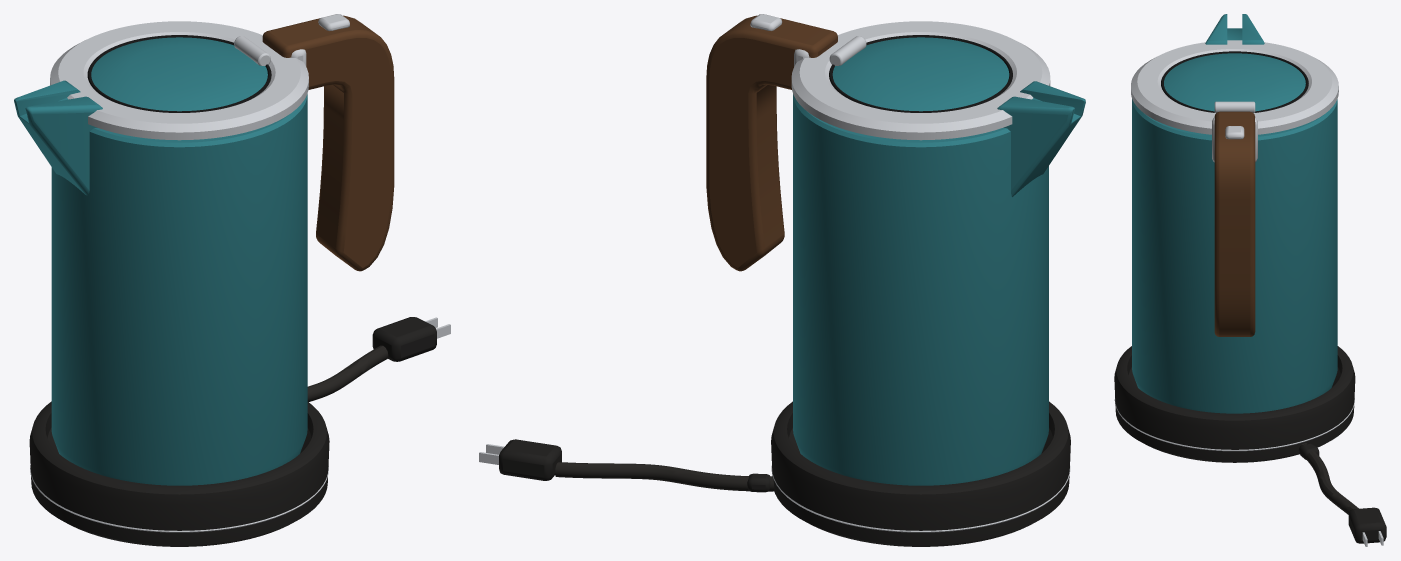
File: electric-kettle.glb
The picture shows the model from 3 angles, left to right: view 1: azimuth 30°, elevation 25°; view 2: azimuth 150°, elevation 25°; view 3: azimuth 270°, elevation 25°; orthographic projection. The views are drawn at different scales.
Visible parts, largest first — view 1: body, base, handle, rim, spout, box.001, box, cord, torus; view 2: body, base, handle, rim, spout, cord, box, box.001, torus; view 3: body, base, handle, rim, box.001, box, spout, cord, torus.
Boxes of the visible parts, x1,y1,x2,y2 form: body: (51, 37, 307, 485); base: (29, 401, 329, 546); handle: (262, 15, 394, 271); rim: (50, 21, 308, 140); spout: (14, 80, 102, 195); box.001: (30, 14, 450, 532); box: (372, 317, 436, 361); cord: (307, 345, 388, 401); torus: (87, 35, 271, 112); body: (793, 37, 1048, 485); base: (771, 401, 1070, 546); handle: (706, 15, 837, 271); rim: (791, 21, 1050, 140); spout: (997, 81, 1085, 196); cord: (555, 462, 774, 491); box: (499, 439, 770, 492); box.001: (479, 14, 1070, 532); torus: (829, 35, 1012, 112); body: (1132, 53, 1337, 413); base: (1114, 346, 1355, 462); handle: (1214, 111, 1255, 336); rim: (1131, 40, 1338, 134); box.001: (1114, 101, 1383, 546); box: (1299, 443, 1386, 543); spout: (1205, 14, 1264, 44); cord: (1298, 443, 1358, 514); torus: (1161, 51, 1308, 112).
Bounding box in the file's own units: 0.3505 × 0.282 × 0.2011.
